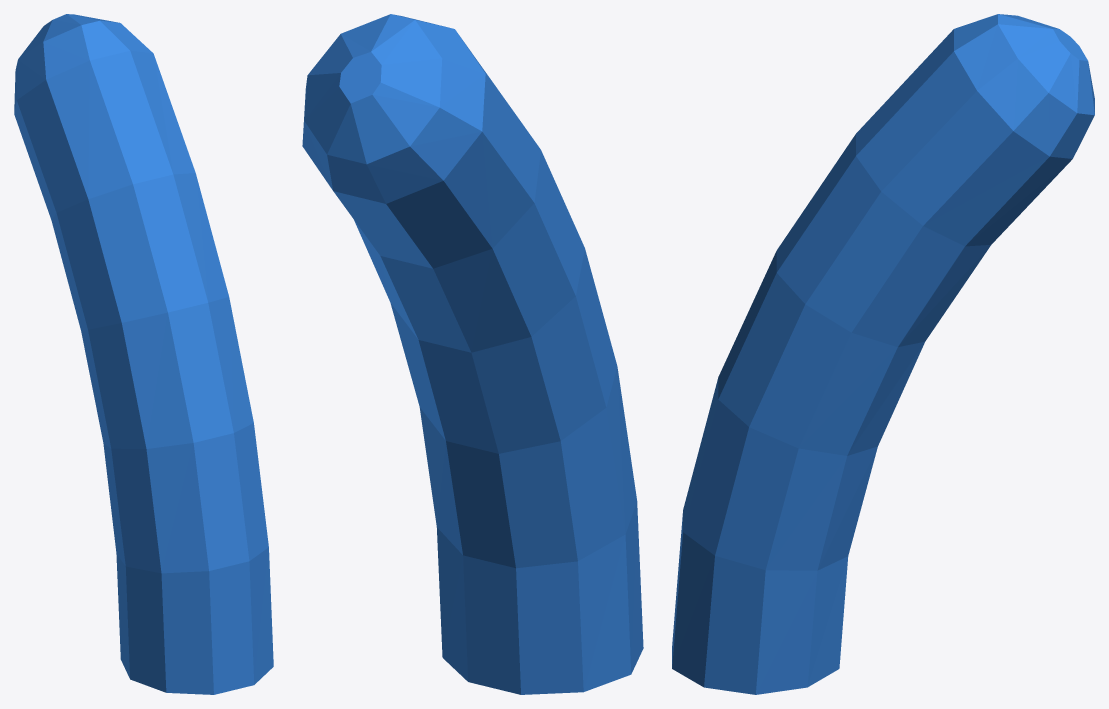
Rendered from tail.FBX.
3 renders of one model, left to right at view 1: azimuth 30°, elevation 25°; view 2: azimuth 150°, elevation 25°; view 3: azimuth 270°, elevation 25°, orthographic. The views are drawn at different scales.
Parts seen in each view (by area): view 1: VIFS001; view 2: VIFS001; view 3: VIFS001.
Part boxes in pixels (x1,y1,x2,y2): VIFS001: [14, 14, 273, 694]; VIFS001: [302, 14, 643, 694]; VIFS001: [672, 14, 1094, 694].
Size of the model in its own units: 0.16 by 0.64 by 0.384.
